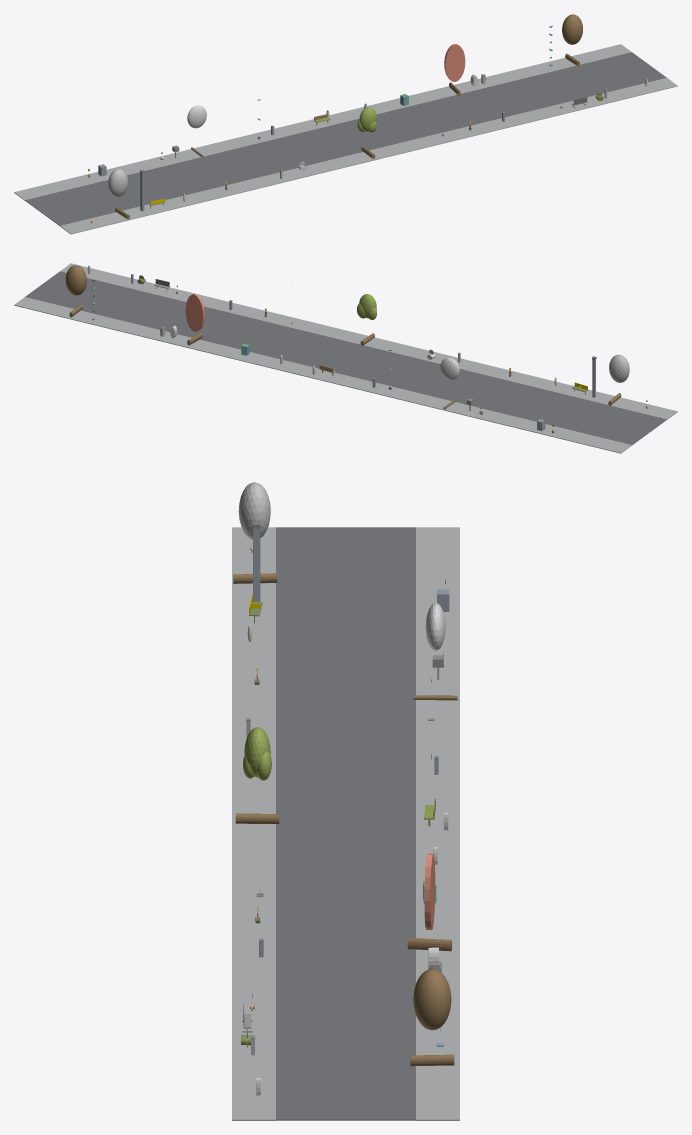
The picture shows the model from 3 angles, top to bottom: view 1: azimuth 30°, elevation 25°; view 2: azimuth 150°, elevation 25°; view 3: azimuth 270°, elevation 25°; orthographic projection. The views are drawn at different scales.
Parts seen in each view (by area): view 1: road_slab, sidewalk_left, sidewalk_right, inst_0015, inst_0016, inst_0012, inst_0014, inst_0013; view 2: road_slab, sidewalk_right, sidewalk_left, inst_0015, inst_0016, inst_0012, inst_0014, inst_0013; view 3: road_slab, sidewalk_left, sidewalk_right, inst_0016, inst_0012, inst_0014, inst_0015, inst_0013.
Boxes of the visible parts, <box> form: road_slab: <box>25,52,666,225</box>; sidewalk_left: <box>60,78,677,234</box>; sidewalk_right: <box>14,44,631,200</box>; inst_0015: <box>444,43,465,95</box>; inst_0016: <box>562,14,582,66</box>; inst_0012: <box>108,168,129,219</box>; inst_0014: <box>357,107,377,159</box>; inst_0013: <box>187,105,206,157</box>; road_slab: <box>25,271,666,445</box>; sidewalk_right: <box>14,297,631,453</box>; sidewalk_left: <box>60,263,677,419</box>; inst_0015: <box>185,293,204,345</box>; inst_0016: <box>65,265,86,317</box>; inst_0012: <box>608,354,629,405</box>; inst_0014: <box>357,294,376,345</box>; inst_0013: <box>440,357,459,409</box>; road_slab: <box>276,527,415,1120</box>; sidewalk_left: <box>232,527,275,1120</box>; sidewalk_right: <box>416,527,459,1120</box>; inst_0016: <box>410,969,454,1066</box>; inst_0012: <box>233,482,277,583</box>; inst_0014: <box>235,727,279,823</box>; inst_0015: <box>407,853,451,951</box>; inst_0013: <box>413,603,457,700</box>.
Bounding box in the file's own units: 80 × 6.08 × 13.
